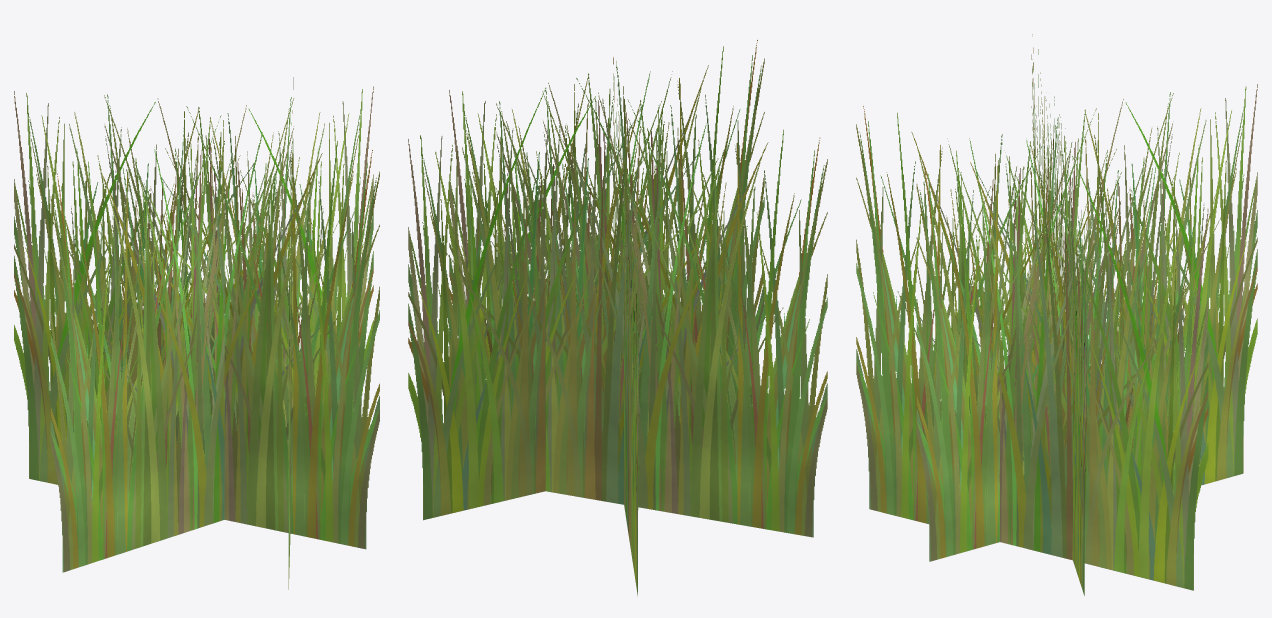
File: Grass_Common_Tall_LOD1.gltf
3 views of the same model, side by side, from view 1: azimuth 30°, elevation 25°; view 2: azimuth 150°, elevation 25°; view 3: azimuth 270°, elevation 25° (orthographic).
Visible parts, largest first — view 1: Grass_Common_Tall_LOD1; view 2: Grass_Common_Tall_LOD1; view 3: Grass_Common_Tall_LOD1.
Part boxes in pixels (x1=…): Grass_Common_Tall_LOD1: x1=14, y1=77, x2=379, y2=589; Grass_Common_Tall_LOD1: x1=408, y1=40, x2=827, y2=595; Grass_Common_Tall_LOD1: x1=856, y1=34, x2=1257, y2=595.
Bounding box in the file's own units: 0.7927 × 0.9021 × 0.7837.
1 material, 1 textured.
